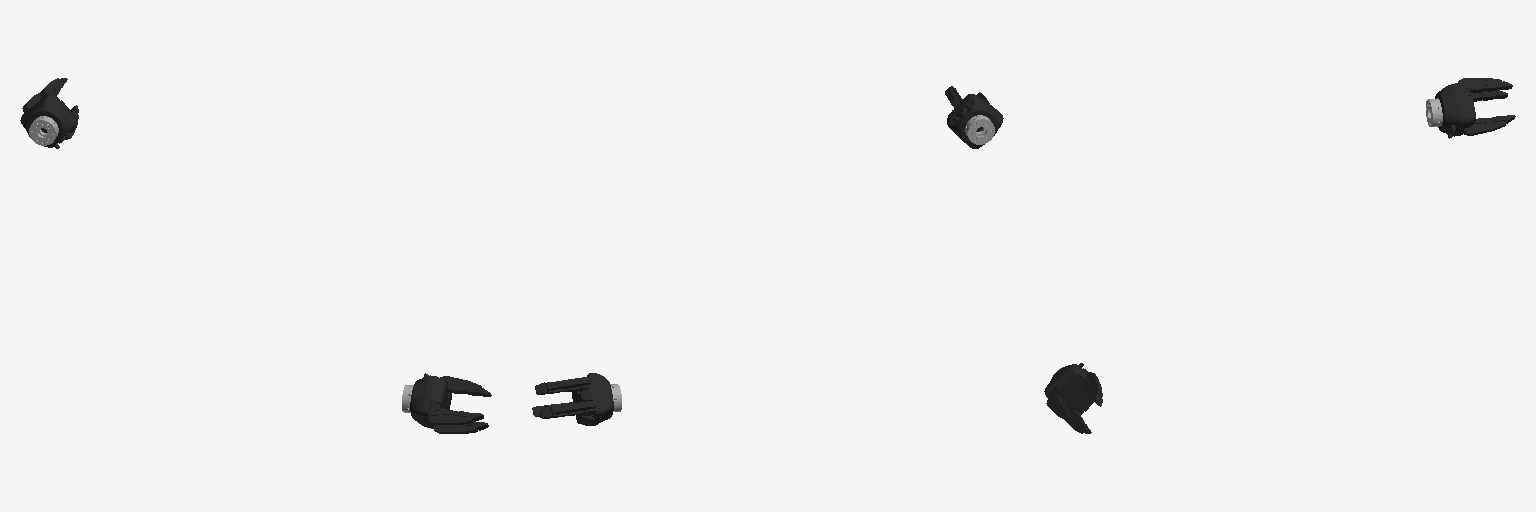
--- Render facts (derived) ---
Views: 3 orthographic renders of the robot side by side, from view 1: azimuth 30°, elevation 25°; view 2: azimuth 150°, elevation 25°; view 3: azimuth 330°, elevation 25°.
Model wiktor with 52 links and 51 joints (36 revolute, 15 fixed), rooted at wiktor_root, posed every joint at zero.
Links seen in each view (by area): view 1: wiktor_right_gripper_palm, wiktor_left_gripper_palm, wiktor_left_gripper_mounting_bracket; view 2: wiktor_right_gripper_palm, wiktor_left_gripper_palm, wiktor_right_gripper_mounting_bracket; view 3: wiktor_left_gripper_palm, wiktor_right_gripper_palm.
Boxes of the visible links, box(x1,y1,x2,y2) form: wiktor_right_gripper_palm: box(410, 373, 451, 428); wiktor_left_gripper_palm: box(20, 93, 76, 148); wiktor_left_gripper_mounting_bracket: box(29, 116, 58, 145); wiktor_right_gripper_palm: box(947, 94, 1003, 148); wiktor_left_gripper_palm: box(572, 373, 613, 425); wiktor_right_gripper_mounting_bracket: box(965, 115, 994, 144); wiktor_left_gripper_palm: box(1435, 83, 1475, 138); wiktor_right_gripper_palm: box(1044, 363, 1095, 411).
Size in the robot's own frame: 0.2279 by 2.5 by 0.1752 metres.
Meshes: 16 distinct files referenced, 28 mesh visuals loaded (6 binary STL); not drawn: 18 (reference not matched to a file when rendering).

The robot description file, URDF, robot "wiktor":
<?xml version="1.0" ?>
<!-- =================================================================================== -->
<!-- |    This document was autogenerated by xacro from wiktor.urdf.xacro              | -->
<!-- |    EDITING THIS FILE BY HAND IS NOT RECOMMENDED                                 | -->
<!-- =================================================================================== -->
<robot name="wiktor" xmlns:xacro="http://www.ros.org/wiki/xacro">
  <material name="Black">
    <color rgba="0.0 0.0 0.0 1.0"/>
  </material>
  <material name="Blue">
    <color rgba="0.0 0.0 0.8 1.0"/>
  </material>
  <material name="Green">
    <color rgba="0.0 0.8 0.0 1.0"/>
  </material>
  <material name="Grey">
    <color rgba="0.4 0.4 0.4 1.0"/>
  </material>
  <material name="Orange">
    <color rgba="1.0 0.423529411765 0.0392156862745 1.0"/>
  </material>
  <material name="Brown">
    <color rgba="0.870588235294 0.811764705882 0.764705882353 1.0"/>
  </material>
  <material name="Red">
    <color rgba="0.8 0.0 0.0 1.0"/>
  </material>
  <material name="White">
    <color rgba="1.0 1.0 1.0 1.0"/>
  </material>
  <material name="LightGrey">
    <color rgba="0.7 0.7 0.7 1"/>
  </material>
  <material name="DarkGray">
    <color rgba="0.2 0.2 0.2 1"/>
  </material>
  <material name="DarkDarkGray">
    <color rgba="0.1 0.1 0.1 1"/>
  </material>
  <link name="wiktor_root"/>
  <joint name="wiktor_dummy_root_joint" type="fixed">
    <parent link="wiktor_root"/>
    <child link="wiktor_pedestal"/>
    <origin rpy="0 0 0" xyz="0 0 0"/>
    <axis xyz="0 0 1"/>
  </joint>
  <link name="wiktor_pedestal">
    <visual>
      <origin rpy="0 0 0" xyz="0 0 0.9245"/>
      <geometry>
        <mesh filename="package://wiktor_description/meshes/baxter_pedestal/pedestal_visual.stl"/>
      </geometry>
      <material name="DarkGray"/>
    </visual>
    <collision>
      <origin rpy="0 0 0" xyz="0 0 0.9245"/>
      <geometry>
        <mesh filename="package://wiktor_description/meshes/baxter_pedestal/pedestal_collision.stl"/>
      </geometry>
      <material name="DarkGray"/>
    </collision>
    <inertial>
      <origin rpy="0 0 0" xyz="0 0 0"/>
      <mass value="60.86397744"/>
      <inertia ixx="5.0635929" ixy="0.00103417" ixz="0.80199628" iyy="6.08689388" iyz="0.00105311" izz="4.96191932"/>
    </inertial>
  </link>
  <joint name="wiktor_base_plate_mount_joint" type="fixed">
    <parent link="wiktor_pedestal"/>
    <child link="wiktor_base_plate_mount"/>
    <origin rpy="0 0 0" xyz="0 0 0.863"/>
    <axis xyz="0 0 1"/>
  </joint>
  <link name="wiktor_base_plate_mount"/>
  <joint name="wiktor_base_plate_joint" type="fixed">
    <parent link="wiktor_base_plate_mount"/>
    <child link="wiktor_base_plate"/>
    <origin rpy="0 0 0" xyz="0 0 0"/>
    <axis xyz="0 0 1"/>
  </joint>
  <link name="wiktor_base_plate">
    <visual>
      <origin rpy="0 0 0" xyz="0 0 0"/>
      <geometry>
        <mesh filename="package://wiktor_description/meshes/torso/torso_visual.stl"/>
      </geometry>
      <material name="LightGrey"/>
    </visual>
    <collision>
      <origin rpy="0 0 0" xyz="0 0 0.2"/>
      <geometry>
        <!--<mesh filename="package://wiktor_description/meshes/torso_visual_model.stl"/>-->
        <cylinder length="0.7" radius="0.2"/>
      </geometry>
      <material name="LightGrey"/>
    </collision>
  </link>
  <joint name="wiktor_left_arm_mount_joint" type="fixed">
    <parent link="wiktor_base_plate"/>
    <child link="wiktor_left_arm_mount"/>
    <origin rpy="-1.5707963268 0 -0.785398163397448" xyz="-0.02 0.1384885 0.385"/>
    <axis xyz="0 0 1"/>
  </joint>
  <link name="wiktor_left_arm_mount">
    <collision>
      <origin rpy="0 0 0" xyz="0 0 -0.013"/>
      <geometry>
        <!--<mesh filename="package://wiktor_description/meshes/torso_visual_model.stl"/>-->
        <box size="0.31 0.31 0.032"/>
      </geometry>
      <material name="LightGrey"/>
    </collision>
  </link>
  <joint name="wiktor_right_arm_mount_joint" type="fixed">
    <parent link="wiktor_base_plate"/>
    <child link="wiktor_right_arm_mount"/>
    <origin rpy="1.5707963268 0 0.785398163397448" xyz="-0.02 -0.1384885 0.385"/>
    <axis xyz="0 0 1"/>
  </joint>
  <link name="wiktor_right_arm_mount">
    <collision>
      <origin rpy="0 0 0" xyz="0 0 -0.013"/>
      <geometry>
        <!--<mesh filename="package://wiktor_description/meshes/torso_visual_model.stl"/>-->
        <box size="0.31 0.31 0.032"/>
      </geometry>
      <material name="LightGrey"/>
    </collision>
  </link>
  <!--joint between {parent} and link_0-->
  <joint name="wiktor_left_arm_mount_wiktor_left_arm_joint" type="fixed">
    <origin rpy="0 0 0" xyz="0 0 0"/>
    <parent link="wiktor_left_arm_mount"/>
    <child link="wiktor_left_arm_link_0"/>
  </joint>
  <link name="wiktor_left_arm_link_0">
    <inertial>
      <origin rpy="0 0 0" xyz="-0.1 0 0.07"/>
      <mass value="5"/>
      <inertia ixx="0.05" ixy="0" ixz="0" iyy="0.06" iyz="0" izz="0.03"/>
    </inertial>
    <visual>
      <origin rpy="0 0 0" xyz="0 0 0"/>
      <geometry>
        <mesh filename="package://wiktor_description/meshes/iiwa7/visual/link_0.stl"/>
      </geometry>
      <material name="Grey"/>
    </visual>
    <collision>
      <origin rpy="0 0 0" xyz="0 0 0"/>
      <geometry>
        <mesh filename="package://wiktor_description/meshes/iiwa7/collision/link_0.stl"/>
      </geometry>
      <material name="Grey"/>
    </collision>
    <self_collision_checking>
      <origin rpy="0 0 0" xyz="0 0 0"/>
      <geometry>
        <capsule length="0.25" radius="0.15"/>
      </geometry>
    </self_collision_checking>
  </link>
  <!-- joint between link_0 and link_1 -->
  <joint name="wiktor_left_arm_joint_1" type="revolute">
    <parent link="wiktor_left_arm_link_0"/>
    <child link="wiktor_left_arm_link_1"/>
    <origin rpy="0 0 0" xyz="0 0 0.15"/>
    <axis xyz="0 0 1"/>
    <limit effort="300" lower="-2.96705972839" upper="2.96705972839" velocity="10"/>
    <safety_controller k_position="100" k_velocity="2" soft_lower_limit="-2.93215314335" soft_upper_limit="2.93215314335"/>
    <dynamics damping="0.5"/>
  </joint>
  <link name="wiktor_left_arm_link_1">
    <inertial>
      <origin rpy="0 0 0" xyz="0 -0.03 0.12"/>
      <mass value="3.4525"/>
      <inertia ixx="0.02183" ixy="0" ixz="0" iyy="0.007703" iyz="-0.003887" izz="0.02083"/>
    </inertial>
    <visual>
      <origin rpy="0 0 0" xyz="0 0 0.0075"/>
      <geometry>
        <mesh filename="package://wiktor_description/meshes/iiwa7/visual/link_1.stl"/>
      </geometry>
      <material name="Orange"/>
    </visual>
    <collision>
      <origin rpy="0 0 0" xyz="0 0 0.0075"/>
      <geometry>
        <mesh filename="package://wiktor_description/meshes/iiwa7/collision/link_1.stl"/>
      </geometry>
      <material name="Orange"/>
    </collision>
  </link>
  <joint name="wiktor_left_arm_joint_2" type="revolute">
    <parent link="wiktor_left_arm_link_1"/>
    <child link="wiktor_left_arm_link_2"/>
    <origin rpy="1.57079632679   0 3.14159265359" xyz="0 0 0.19"/>
    <axis xyz="0 0 1"/>
    <limit effort="300" lower="-2.09439510239" upper="2.09439510239" velocity="10"/>
    <safety_controller k_position="100" k_velocity="2" soft_lower_limit="-2.05948851735" soft_upper_limit="2.05948851735"/>
    <dynamics damping="0.5"/>
  </joint>
  <link name="wiktor_left_arm_link_2">
    <inertial>
      <origin rpy="0 0 0" xyz="0.0003 0.059 0.042"/>
      <mass value="3.4821"/>
      <inertia ixx="0.02076" ixy="0" ixz="-0.003626" iyy="0.02179" iyz="0" izz="0.00779"/>
    </inertial>
    <visual>
      <origin rpy="0 0 0" xyz="0 0 0"/>
      <geometry>
        <mesh filename="package://wiktor_description/meshes/iiwa7/visual/link_2.stl"/>
      </geometry>
      <material name="Orange"/>
    </visual>
    <collision>
      <origin rpy="0 0 0" xyz="0 0 0"/>
      <geometry>
        <mesh filename="package://wiktor_description/meshes/iiwa7/collision/link_2.stl"/>
      </geometry>
      <material name="Orange"/>
    </collision>
  </link>
  <joint name="wiktor_left_arm_joint_3" type="revolute">
    <parent link="wiktor_left_arm_link_2"/>
    <child link="wiktor_left_arm_link_3"/>
    <origin rpy="1.57079632679 0 3.14159265359" xyz="0 0.21 0"/>
    <axis xyz="0 0 1"/>
    <limit effort="300" lower="-2.96705972839" upper="2.96705972839" velocity="10"/>
    <safety_controller k_position="100" k_velocity="2" soft_lower_limit="-2.93215314335" soft_upper_limit="2.93215314335"/>
    <dynamics damping="0.5"/>
  </joint>
  <link name="wiktor_left_arm_link_3">
    <inertial>
      <origin rpy="0 0 0" xyz="0 0.03 0.13"/>
      <mass value="4.05623"/>
      <inertia ixx="0.03204" ixy="0" ixz="0" iyy="0.00972" iyz="0.006227" izz="0.03042"/>
    </inertial>
    <visual>
      <origin rpy="0 0 0" xyz="0 0 -0.026"/>
      <geometry>
        <mesh filename="package://wiktor_description/meshes/iiwa7/visual/link_3.stl"/>
      </geometry>
      <material name="Orange"/>
    </visual>
    <collision>
      <origin rpy="0 0 0" xyz="0 0 -0.026"/>
      <geometry>
        <mesh filename="package://wiktor_description/meshes/iiwa7/collision/link_3.stl"/>
      </geometry>
      <material name="Orange"/>
    </collision>
  </link>
  <joint name="wiktor_left_arm_joint_4" type="revolute">
    <parent link="wiktor_left_arm_link_3"/>
    <child link="wiktor_left_arm_link_4"/>
    <origin rpy="1.57079632679 0 0" xyz="0 0 0.19"/>
    <axis xyz="0 0 1"/>
    <limit effort="300" lower="-2.09439510239" upper="2.09439510239" velocity="10"/>
    <safety_controller k_position="100" k_velocity="2" soft_lower_limit="-2.05948851735" soft_upper_limit="2.05948851735"/>
    <dynamics damping="0.5"/>
  </joint>
  <link name="wiktor_left_arm_link_4">
    <inertial>
      <origin rpy="0 0 0" xyz="0 0.067 0.034"/>
      <mass value="3.4822"/>
      <inertia ixx="0.02178" ixy="0" ixz="0" iyy="0.02075" iyz="-0.003625" izz="0.007785"/>
    </inertial>
    <visual>
      <origin rpy="0 0 0" xyz="0 0 0"/>
      <geometry>
        <mesh filename="package://wiktor_description/meshes/iiwa7/visual/link_4.stl"/>
      </geometry>
      <material name="Orange"/>
    </visual>
    <collision>
      <origin rpy="0 0 0" xyz="0 0 0"/>
      <geometry>
        <mesh filename="package://wiktor_description/meshes/iiwa7/collision/link_4.stl"/>
      </geometry>
      <material name="Orange"/>
    </collision>
  </link>
  <joint name="wiktor_left_arm_joint_5" type="revolute">
    <parent link="wiktor_left_arm_link_4"/>
    <child link="wiktor_left_arm_link_5"/>
    <origin rpy="-1.57079632679 3.14159265359 0" xyz="0 0.21 0"/>
    <axis xyz="0 0 1"/>
    <limit effort="300" lower="-2.96705972839" upper="2.96705972839" velocity="10"/>
    <safety_controller k_position="100" k_velocity="2" soft_lower_limit="-2.93215314335" soft_upper_limit="2.93215314335"/>
    <dynamics damping="0.5"/>
  </joint>
  <link name="wiktor_left_arm_link_5">
    <inertial>
      <origin rpy="0 0 0" xyz="0.0001 0.021 0.076"/>
      <mass value="2.1633"/>
      <inertia ixx="0.01287" ixy="0" ixz="0" iyy="0.005708" iyz="-0.003946" izz="0.01112"/>
    </inertial>
    <visual>
      <origin rpy="0 0 0" xyz="0 0 -0.026"/>
      <geometry>
        <mesh filename="package://wiktor_description/meshes/iiwa7/visual/link_5.stl"/>
      </geometry>
      <material name="Orange"/>
    </visual>
    <collision>
      <origin rpy="0 0 0" xyz="0 0 -0.026"/>
      <geometry>
        <mesh filename="package://wiktor_description/meshes/iiwa7/collision/link_5.stl"/>
      </geometry>
      <material name="Orange"/>
    </collision>
  </link>
  <joint name="wiktor_left_arm_joint_6" type="revolute">
    <parent link="wiktor_left_arm_link_5"/>
    <child link="wiktor_left_arm_link_6"/>
    <origin rpy="1.57079632679 0 0" xyz="0 0.06070 0.19"/>
    <axis xyz="0 0 1"/>
    <limit effort="300" lower="-2.09439510239" upper="2.09439510239" velocity="10"/>
    <safety_controller k_position="100" k_velocity="2" soft_lower_limit="-2.05948851735" soft_upper_limit="2.05948851735"/>
    <dynamics damping="0.5"/>
  </joint>
  <link name="wiktor_left_arm_link_6">
    <inertial>
      <origin rpy="0 0 0" xyz="0 0.0006 0.0004"/>
      <mass value="2.3466"/>
      <inertia ixx="0.006509" ixy="0" ixz="0" iyy="0.006259" iyz="0.00031891" izz="0.004527"/>
    </inertial>
    <visual>
      <origin rpy="0 0 0" xyz="0 0 0"/>
      <geometry>
        <mesh filename="package://wiktor_description/meshes/iiwa7/visual/link_6.stl"/>
      </geometry>
      <material name="Orange"/>
    </visual>
    <collision>
      <origin rpy="0 0 0" xyz="0 0 0"/>
      <geometry>
        <mesh filename="package://wiktor_description/meshes/iiwa7/collision/link_6.stl"/>
      </geometry>
      <material name="Orange"/>
    </collision>
  </link>
  <joint name="wiktor_left_arm_joint_7" type="revolute">
    <parent link="wiktor_left_arm_link_6"/>
    <child link="wiktor_left_arm_link_7"/>
    <origin rpy="-1.57079632679 3.14159265359 0" xyz="0 0.081 0.06070"/>
    <axis xyz="0 0 1"/>
    <limit effort="300" lower="-3.05432619099" upper="3.05432619099" velocity="10"/>
    <safety_controller k_position="100" k_velocity="2" soft_lower_limit="-3.01941960595" soft_upper_limit="3.01941960595"/>
    <dynamics damping="0.5"/>
  </joint>
  <link name="wiktor_left_arm_link_7">
    <inertial>
      <origin rpy="0 0 0" xyz="0 0 0.02"/>
      <mass value="3.129"/>
      <inertia ixx="0.01464" ixy="0.0005912" ixz="0" iyy="0.01465" iyz="0" izz="0.002872"/>
    </inertial>
    <visual>
      <origin rpy="0 0 0" xyz="0 0 -0.0005"/>
      <geometry>
        <mesh filename="package://wiktor_description/meshes/iiwa7/visual/link_7_electric.stl"/>
      </geometry>
      <material name="Grey"/>
    </visual>
    <collision>
      <origin rpy="0 0 0" xyz="0 0 -0.0005"/>
      <geometry>
        <mesh filename="package://wiktor_description/meshes/iiwa7/collision/link_7_electric.stl"/>
      </geometry>
      <material name="Grey"/>
    </collision>
  </link>
  <joint name="wiktor_left_arm_joint_ee" type="fixed">
    <parent link="wiktor_left_arm_link_7"/>
    <child link="wiktor_left_arm_link_ee"/>
    <origin rpy="0 0 0" xyz="0 0 0.045"/>
  </joint>
  <link name="wiktor_left_arm_link_ee">
        </link>
  <!--<joint name="${robot_name}_joint_ee_kuka" type="fixed">-->
  <!--<parent link="${robot_name}_link_7"/>-->
  <!--<child link="${robot_name}_link_ee_kuka"/>-->
  <!--<origin xyz="0 0 0.045" rpy="${PI} ${PI} ${PI}"/>-->
  <!--<axis xyz="0 0 1"/>-->
  <!--</joint>-->
  <!--<link name="${robot_name}_link_ee_kuka">-->
  <!--</link>-->
  <!-- Load Gazebo lib and set the robot namespace -->
  <gazebo>
    <plugin filename="libgazebo_ros_control.so" name="gazebo_ros_control">
      <robotNamespace>/wiktor_left_arm</robotNamespace>
    </plugin>
  </gazebo>
  <!-- Link0 -->
  <gazebo reference="iiwa_link_0">
    <material>Gazebo/Grey</material>
    <mu1>0.2</mu1>
    <mu2>0.2</mu2>
  </gazebo>
  <!-- Link1 -->
  <gazebo reference="iiwa_link_1">
    <material>Gazebo/Orange</material>
    <mu1>0.2</mu1>
    <mu2>0.2</mu2>
  </gazebo>
  <!-- Link2 -->
  <gazebo reference="iiwa_link_2">
    <material>Gazebo/Orange</material>
    <mu1>0.2</mu1>
    <mu2>0.2</mu2>
  </gazebo>
  <!-- Link3 -->
  <gazebo reference="iiwa_link_3">
    <material>Gazebo/Orange</material>
    <mu1>0.2</mu1>
    <mu2>0.2</mu2>
  </gazebo>
  <!-- Link4 -->
  <gazebo reference="iiwa_link_4">
    <material>Gazebo/Orange</material>
    <mu1>0.2</mu1>
    <mu2>0.2</mu2>
  </gazebo>
  <!-- Link5 -->
  <gazebo reference="iiwa_link_5">
    <material>Gazebo/Orange</material>
    <mu1>0.2</mu1>
    <mu2>0.2</mu2>
  </gazebo>
  <!-- Link6 -->
  <gazebo reference="iiwa_link_6">
    <material>Gazebo/Orange</material>
    <mu1>0.2</mu1>
    <mu2>0.2</mu2>
  </gazebo>
  <!-- Link7 -->
  <gazebo reference="iiwa_link_7">
    <material>Gazebo/Grey</material>
    <mu1>0.2</mu1>
    <mu2>0.2</mu2>
  </gazebo>
  <transmission name="iiwa_tran_1">
    <robotNamespace>/wiktor_left_arm</robotNamespace>
    <type>transmission_interface/SimpleTransmission</type>
    <joint name="iiwa_joint_1">
      <hardwareInterface>PositionJointInterface</hardwareInterface>
    </joint>
    <actuator name="iiwa_motor_1">
      <hardwareInterface>PositionJointInterface</hardwareInterface>
      <mechanicalReduction>1</mechanicalReduction>
    </actuator>
  </transmission>
  <transmission name="iiwa_tran_2">
    <robotNamespace>/wiktor_left_arm</robotNamespace>
    <type>transmission_interface/SimpleTransmission</type>
    <joint name="iiwa_joint_2">
      <hardwareInterface>PositionJointInterface</hardwareInterface>
    </joint>
    <actuator name="iiwa_motor_2">
      <hardwareInterface>PositionJointInterface</hardwareInterface>
      <mechanicalReduction>1</mechanicalReduction>
    </actuator>
  </transmission>
  <transmission name="iiwa_tran_3">
    <robotNamespace>/wiktor_left_arm</robotNamespace>
    <type>transmission_interface/SimpleTransmission</type>
    <joint name="iiwa_joint_3">
      <hardwareInterface>PositionJointInterface</hardwareInterface>
    </joint>
    <actuator name="iiwa_motor_3">
      <hardwareInterface>PositionJointInterface</hardwareInterface>
      <mechanicalReduction>1</mechanicalReduction>
    </actuator>
  </transmission>
  <transmission name="iiwa_tran_4">
    <robotNamespace>/wiktor_left_arm</robotNamespace>
    <type>transmission_interface/SimpleTransmission</type>
    <joint name="iiwa_joint_4">
      <hardwareInterface>PositionJointInterface</hardwareInterface>
    </joint>
    <actuator name="iiwa_motor_4">
      <hardwareInterface>PositionJointInterface</hardwareInterface>
      <mechanicalReduction>1</mechanicalReduction>
    </actuator>
  </transmission>
  <transmission name="iiwa_tran_5">
    <robotNamespace>/wiktor_left_arm</robotNamespace>
    <type>transmission_interface/SimpleTransmission</type>
    <joint name="iiwa_joint_5">
      <hardwareInterface>PositionJointInterface</hardwareInterface>
    </joint>
    <actuator name="iiwa_motor_5">
      <hardwareInterface>PositionJointInterface</hardwareInterface>
      <mechanicalReduction>1</mechanicalReduction>
    </actuator>
  </transmission>
  <transmission name="iiwa_tran_6">
    <robotNamespace>/wiktor_left_arm</robotNamespace>
    <type>transmission_interface/SimpleTransmission</type>
    <joint name="iiwa_joint_6">
      <hardwareInterface>PositionJointInterface</hardwareInterface>
    </joint>
    <actuator name="iiwa_motor_6">
      <hardwareInterface>PositionJointInterface</hardwareInterface>
      <mechanicalReduction>1</mechanicalReduction>
    </actuator>
  </transmission>
  <transmission name="iiwa_tran_7">
    <robotNamespace>/wiktor_left_arm</robotNamespace>
    <type>transmission_interface/SimpleTransmission</type>
    <joint name="iiwa_joint_7">
      <hardwareInterface>PositionJointInterface</hardwareInterface>
    </joint>
    <actuator name="iiwa_motor_7">
      <hardwareInterface>PositionJointInterface</hardwareInterface>
      <mechanicalReduction>1</mechanicalReduction>
    </actuator>
  </transmission>
  <!--joint between {parent} and link_0-->
  <joint name="wiktor_right_arm_mount_wiktor_right_arm_joint" type="fixed">
    <origin rpy="0 0 0" xyz="0 0 0"/>
    <parent link="wiktor_right_arm_mount"/>
    <child link="wiktor_right_arm_link_0"/>
  </joint>
  <link name="wiktor_right_arm_link_0">
    <inertial>
      <origin rpy="0 0 0" xyz="-0.1 0 0.07"/>
      <mass value="5"/>
      <inertia ixx="0.05" ixy="0" ixz="0" iyy="0.06" iyz="0" izz="0.03"/>
    </inertial>
    <visual>
      <origin rpy="0 0 0" xyz="0 0 0"/>
      <geometry>
        <mesh filename="package://wiktor_description/meshes/iiwa7/visual/link_0.stl"/>
      </geometry>
      <material name="Grey"/>
    </visual>
    <collision>
      <origin rpy="0 0 0" xyz="0 0 0"/>
      <geometry>
        <mesh filename="package://wiktor_description/meshes/iiwa7/collision/link_0.stl"/>
      </geometry>
      <material name="Grey"/>
    </collision>
    <self_collision_checking>
      <origin rpy="0 0 0" xyz="0 0 0"/>
      <geometry>
        <capsule length="0.25" radius="0.15"/>
      </geometry>
    </self_collision_checking>
  </link>
  <!-- joint between link_0 and link_1 -->
  <joint name="wiktor_right_arm_joint_1" type="revolute">
    <parent link="wiktor_right_arm_link_0"/>
    <child link="wiktor_right_arm_link_1"/>
    <origin rpy="0 0 0" xyz="0 0 0.15"/>
    <axis xyz="0 0 1"/>
    <limit effort="300" lower="-2.96705972839" upper="2.96705972839" velocity="10"/>
    <safety_controller k_position="100" k_velocity="2" soft_lower_limit="-2.93215314335" soft_upper_limit="2.93215314335"/>
    <dynamics damping="0.5"/>
  </joint>
  <link name="wiktor_right_arm_link_1">
    <inertial>
      <origin rpy="0 0 0" xyz="0 -0.03 0.12"/>
      <mass value="3.4525"/>
      <inertia ixx="0.02183" ixy="0" ixz="0" iyy="0.007703" iyz="-0.003887" izz="0.02083"/>
    </inertial>
    <visual>
      <origin rpy="0 0 0" xyz="0 0 0.0075"/>
      <geometry>
        <mesh filename="package://wiktor_description/meshes/iiwa7/visual/link_1.stl"/>
      </geometry>
      <material name="Orange"/>
    </visual>
    <collision>
      <origin rpy="0 0 0" xyz="0 0 0.0075"/>
      <geometry>
        <mesh filename="package://wiktor_description/meshes/iiwa7/collision/link_1.stl"/>
      </geometry>
      <material name="Orange"/>
    </collision>
  </link>
  <joint name="wiktor_right_arm_joint_2" type="revolute">
    <parent link="wiktor_right_arm_link_1"/>
    <child link="wiktor_right_arm_link_2"/>
    <origin rpy="1.57079632679   0 3.14159265359" xyz="0 0 0.19"/>
    <axis xyz="0 0 1"/>
    <limit effort="300" lower="-2.09439510239" upper="2.09439510239" velocity="10"/>
    <safety_controller k_position="100" k_velocity="2" soft_lower_limit="-2.05948851735" soft_upper_limit="2.05948851735"/>
    <dynamics damping="0.5"/>
  </joint>
  <link name="wiktor_right_arm_link_2">
    <inertial>
      <origin rpy="0 0 0" xyz="0.0003 0.059 0.042"/>
      <mass value="3.4821"/>
      <inertia ixx="0.02076" ixy="0" ixz="-0.003626" iyy="0.02179" iyz="0" izz="0.00779"/>
    </inertial>
    <visual>
      <origin rpy="0 0 0" xyz="0 0 0"/>
      <geometry>
        <mesh filename="package://wiktor_description/meshes/iiwa7/visual/link_2.stl"/>
      </geometry>
      <material name="Orange"/>
    </visual>
    <collision>
      <origin rpy="0 0 0" xyz="0 0 0"/>
      <geometry>
        <mesh filename="package://wiktor_description/meshes/iiwa7/collision/link_2.stl"/>
      </geometry>
      <material name="Orange"/>
    </collision>
  </link>
  <joint name="wiktor_right_arm_joint_3" type="revolute">
    <parent link="wiktor_right_arm_link_2"/>
    <child link="wiktor_right_arm_link_3"/>
    <origin rpy="1.57079632679 0 3.14159265359" xyz="0 0.21 0"/>
    <axis xyz="0 0 1"/>
    <limit effort="300" lower="-2.96705972839" upper="2.96705972839" velocity="10"/>
    <safety_controller k_position="100" k_velocity="2" soft_lower_limit="-2.93215314335" soft_upper_limit="2.93215314335"/>
    <dynamics damping="0.5"/>
  </joint>
  <link name="wiktor_right_arm_link_3">
    <inertial>
      <origin rpy="0 0 0" xyz="0 0.03 0.13"/>
      <mass value="4.05623"/>
      <inertia ixx="0.03204" ixy="0" ixz="0" iyy="0.00972" iyz="0.006227" izz="0.03042"/>
    </inertial>
    <visual>
      <origin rpy="0 0 0" xyz="0 0 -0.026"/>
      <geometry>
        <mesh filename="package://wiktor_description/meshes/iiwa7/visual/link_3.stl"/>
      </geometry>
      <material name="Orange"/>
    </visual>
    <collision>
      <origin rpy="0 0 0" xyz="0 0 -0.026"/>
      <geometry>
        <mesh filename="package://wiktor_description/meshes/iiwa7/collision/link_3.stl"/>
      </geometry>
      <material name="Orange"/>
    </collision>
  </link>
  <joint name="wiktor_right_arm_joint_4" type="revolute">
    <parent link="wiktor_right_arm_link_3"/>
    <child link="wiktor_right_arm_link_4"/>
    <origin rpy="1.57079632679 0 0" xyz="0 0 0.19"/>
    <axis xyz="0 0 1"/>
    <limit effort="300" lower="-2.09439510239" upper="2.09439510239" velocity="10"/>
    <safety_controller k_position="100" k_velocity="2" soft_lower_limit="-2.05948851735" soft_upper_limit="2.05948851735"/>
    <dynamics damping="0.5"/>
  </joint>
  <link name="wiktor_right_arm_link_4">
    <inertial>
      <origin rpy="0 0 0" xyz="0 0.067 0.034"/>
      <mass value="3.4822"/>
      <inertia ixx="0.02178" ixy="0" ixz="0" iyy="0.02075" iyz="-0.003625" izz="0.007785"/>
    </inertial>
    <visual>
      <origin rpy="0 0 0" xyz="0 0 0"/>
      <geometry>
        <mesh filename="package://wiktor_description/meshes/iiwa7/visual/link_4.stl"/>
      </geometry>
      <material name="Orange"/>
    </visual>
    <collision>
      <origin rpy="0 0 0" xyz="0 0 0"/>
      <geometry>
        <mesh filename="package://wiktor_description/meshes/iiwa7/collision/link_4.stl"/>
      </geometry>
      <material name="Orange"/>
    </collision>
  </link>
  <joint name="wiktor_right_arm_joint_5" type="revolute">
    <parent link="wiktor_right_arm_link_4"/>
    <child link="wiktor_right_arm_link_5"/>
    <origin rpy="-1.57079632679 3.14159265359 0" xyz="0 0.21 0"/>
    <axis xyz="0 0 1"/>
    <limit effort="300" lower="-2.96705972839" upper="2.96705972839" velocity="10"/>
    <safety_controller k_position="100" k_velocity="2" soft_lower_limit="-2.93215314335" soft_upper_limit="2.93215314335"/>
    <dynamics damping="0.5"/>
  </joint>
  <link name="wiktor_right_arm_link_5">
    <inertial>
      <origin rpy="0 0 0" xyz="0.0001 0.021 0.076"/>
      <mass value="2.1633"/>
      <inertia ixx="0.01287" ixy="0" ixz="0" iyy="0.005708" iyz="-0.003946" izz="0.01112"/>
    </inertial>
    <visual>
      <origin rpy="0 0 0" xyz="0 0 -0.026"/>
      <geometry>
        <mesh filename="package://wiktor_description/meshes/iiwa7/visual/link_5.stl"/>
      </geometry>
      <material name="Orange"/>
    </visual>
    <collision>
      <origin rpy="0 0 0" xyz="0 0 -0.026"/>
      <geometry>
        <mesh filename="package://wiktor_description/meshes/iiwa7/collision/link_5.stl"/>
      </geometry>
      <material name="Orange"/>
    </collision>
  </link>
  <joint name="wiktor_right_arm_joint_6" type="revolute">
    <parent link="wiktor_right_arm_link_5"/>
    <child link="wiktor_right_arm_link_6"/>
    <origin rpy="1.57079632679 0 0" xyz="0 0.06070 0.19"/>
    <axis xyz="0 0 1"/>
    <limit effort="300" lower="-2.09439510239" upper="2.09439510239" velocity="10"/>
    <safety_controller k_position="100" k_velocity="2" soft_lower_limit="-2.05948851735" soft_upper_limit="2.05948851735"/>
    <dynamics damping="0.5"/>
  </joint>
  <link name="wiktor_right_arm_link_6">
    <inertial>
      <origin rpy="0 0 0" xyz="0 0.0006 0.0004"/>
      <mass value="2.3466"/>
      <inertia ixx="0.006509" ixy="0" ixz="0" iyy="0.006259" iyz="0.00031891" izz="0.004527"/>
    </inertial>
    <visual>
      <origin rpy="0 0 0" xyz="0 0 0"/>
      <geometry>
        <mesh filename="package://wiktor_description/meshes/iiwa7/visual/link_6.stl"/>
      </geometry>
      <material name="Orange"/>
    </visual>
    <collision>
      <origin rpy="0 0 0" xyz="0 0 0"/>
      <geometry>
        <mesh filename="package://wiktor_description/meshes/iiwa7/collision/link_6.stl"/>
      </geometry>
      <material name="Orange"/>
    </collision>
  </link>
  <joint name="wiktor_right_arm_joint_7" type="revolute">
    <parent link="wiktor_right_arm_link_6"/>
    <child link="wiktor_right_arm_link_7"/>
    <origin rpy="-1.57079632679 3.14159265359 0" xyz="0 0.081 0.06070"/>
    <axis xyz="0 0 1"/>
    <limit effort="300" lower="-3.05432619099" upper="3.05432619099" velocity="10"/>
    <safety_controller k_position="100" k_velocity="2" soft_lower_limit="-3.01941960595" soft_upper_limit="3.01941960595"/>
    <dynamics damping="0.5"/>
  </joint>
  <link name="wiktor_right_arm_link_7">
    <inertial>
      <origin rpy="0 0 0" xyz="0 0 0.02"/>
      <mass value="3.129"/>
      <inertia ixx="0.01464" ixy="0.0005912" ixz="0" iyy="0.01465" iyz="0" izz="0.002872"/>
    </inertial>
    <visual>
      <origin rpy="0 0 0" xyz="0 0 -0.0005"/>
      <geometry>
        <mesh filename="package://wiktor_description/meshes/iiwa7/visual/link_7_electric.stl"/>
      </geometry>
      <material name="Grey"/>
    </visual>
    <collision>
      <origin rpy="0 0 0" xyz="0 0 -0.0005"/>
      <geometry>
        <mesh filename="package://wiktor_description/meshes/iiwa7/collision/link_7_electric.stl"/>
      </geometry>
      <material name="Grey"/>
    </collision>
  </link>
  <joint name="wiktor_right_arm_joint_ee" type="fixed">
    <parent link="wiktor_right_arm_link_7"/>
    <child link="wiktor_right_arm_link_ee"/>
    <origin rpy="0 0 0" xyz="0 0 0.045"/>
  </joint>
  <link name="wiktor_right_arm_link_ee">
        </link>
  <!--<joint name="${robot_name}_joint_ee_kuka" type="fixed">-->
  <!--<parent link="${robot_name}_link_7"/>-->
  <!--<child link="${robot_name}_link_ee_kuka"/>-->
  <!--<origin xyz="0 0 0.045" rpy="${PI} ${PI} ${PI}"/>-->
  <!--<axis xyz="0 0 1"/>-->
  <!--</joint>-->
  <!--<link name="${robot_name}_link_ee_kuka">-->
  <!--</link>-->
  <!-- Load Gazebo lib and set the robot namespace -->
  <gazebo>
    <plugin filename="libgazebo_ros_control.so" name="gazebo_ros_control">
      <robotNamespace>/wiktor_right_arm</robotNamespace>
    </plugin>
  </gazebo>
  <!-- Link0 -->
  <gazebo reference="iiwa_link_0">
    <material>Gazebo/Grey</material>
    <mu1>0.2</mu1>
    <mu2>0.2</mu2>
  </gazebo>
  <!-- Link1 -->
  <gazebo reference="iiwa_link_1">
    <material>Gazebo/Orange</material>
    <mu1>0.2</mu1>
    <mu2>0.2</mu2>
  </gazebo>
  <!-- Link2 -->
  <gazebo reference="iiwa_link_2">
    <material>Gazebo/Orange</material>
    <mu1>0.2</mu1>
    <mu2>0.2</mu2>
  </gazebo>
  <!-- Link3 -->
  <gazebo reference="iiwa_link_3">
    <material>Gazebo/Orange</material>
    <mu1>0.2</mu1>
    <mu2>0.2</mu2>
  </gazebo>
  <!-- Link4 -->
  <gazebo reference="iiwa_link_4">
    <material>Gazebo/Orange</material>
    <mu1>0.2</mu1>
    <mu2>0.2</mu2>
  </gazebo>
  <!-- Link5 -->
  <gazebo reference="iiwa_link_5">
    <material>Gazebo/Orange</material>
    <mu1>0.2</mu1>
    <mu2>0.2</mu2>
  </gazebo>
  <!-- Link6 -->
  <gazebo reference="iiwa_link_6">
    <material>Gazebo/Orange</material>
    <mu1>0.2</mu1>
    <mu2>0.2</mu2>
  </gazebo>
  <!-- Link7 -->
  <gazebo reference="iiwa_link_7">
    <material>Gazebo/Grey</material>
    <mu1>0.2</mu1>
    <mu2>0.2</mu2>
  </gazebo>
  <transmission name="iiwa_tran_1">
    <robotNamespace>/wiktor_right_arm</robotNamespace>
    <type>transmission_interface/SimpleTransmission</type>
    <joint name="iiwa_joint_1">
      <hardwareInterface>PositionJointInterface</hardwareInterface>
    </joint>
    <actuator name="iiwa_motor_1">
      <hardwareInterface>PositionJointInterface</hardwareInterface>
      <mechanicalReduction>1</mechanicalReduction>
    </actuator>
  </transmission>
  <transmission name="iiwa_tran_2">
    <robotNamespace>/wiktor_right_arm</robotNamespace>
    <type>transmission_interface/SimpleTransmission</type>
    <joint name="iiwa_joint_2">
      <hardwareInterface>PositionJointInterface</hardwareInterface>
    </joint>
    <actuator name="iiwa_motor_2">
      <hardwareInterface>PositionJointInterface</hardwareInterface>
      <mechanicalReduction>1</mechanicalReduction>
    </actuator>
  </transmission>
  <transmission name="iiwa_tran_3">
    <robotNamespace>/wiktor_right_arm</robotNamespace>
    <type>transmission_interface/SimpleTransmission</type>
    <joint name="iiwa_joint_3">
      <hardwareInterface>PositionJointInterface</hardwareInterface>
    </joint>
    <actuator name="iiwa_motor_3">
      <hardwareInterface>PositionJointInterface</hardwareInterface>
      <mechanicalReduction>1</mechanicalReduction>
    </actuator>
  </transmission>
  <transmission name="iiwa_tran_4">
    <robotNamespace>/wiktor_right_arm</robotNamespace>
    <type>transmission_interface/SimpleTransmission</type>
    <joint name="iiwa_joint_4">
      <hardwareInterface>PositionJointInterface</hardwareInterface>
    </joint>
    <actuator name="iiwa_motor_4">
      <hardwareInterface>PositionJointInterface</hardwareInterface>
      <mechanicalReduction>1</mechanicalReduction>
    </actuator>
  </transmission>
  <transmission name="iiwa_tran_5">
    <robotNamespace>/wiktor_right_arm</robotNamespace>
    <type>transmission_interface/SimpleTransmission</type>
    <joint name="iiwa_joint_5">
      <hardwareInterface>PositionJointInterface</hardwareInterface>
    </joint>
    <actuator name="iiwa_motor_5">
      <hardwareInterface>PositionJointInterface</hardwareInterface>
      <mechanicalReduction>1</mechanicalReduction>
    </actuator>
  </transmission>
  <transmission name="iiwa_tran_6">
    <robotNamespace>/wiktor_right_arm</robotNamespace>
    <type>transmission_interface/SimpleTransmission</type>
    <joint name="iiwa_joint_6">
      <hardwareInterface>PositionJointInterface</hardwareInterface>
    </joint>
    <actuator name="iiwa_motor_6">
      <hardwareInterface>PositionJointInterface</hardwareInterface>
      <mechanicalReduction>1</mechanicalReduction>
    </actuator>
  </transmission>
  <transmission name="iiwa_tran_7">
    <robotNamespace>/wiktor_right_arm</robotNamespace>
    <type>transmission_interface/SimpleTransmission</type>
    <joint name="iiwa_joint_7">
      <hardwareInterface>PositionJointInterface</hardwareInterface>
    </joint>
    <actuator name="iiwa_motor_7">
      <hardwareInterface>PositionJointInterface</hardwareInterface>
      <mechanicalReduction>1</mechanicalReduction>
    </actuator>
  </transmission>
  <!--joint between {parent} and link_0-->
  <joint name="wiktor_left_arm_link_ee_wiktor_left_joint" type="fixed">
    <origin rpy="0 0 0" xyz="0 0 0"/>
    <parent link="wiktor_left_arm_link_ee"/>
    <child link="wiktor_left_gripper_mounting_bracket"/>
  </joint>
  <link name="wiktor_left_gripper_mounting_bracket">
    <visual>
      <origin rpy="0 0 0" xyz="0 0 0"/>
      <geometry>
        <mesh filename="package://wiktor_description/meshes/robotiq_3finger/kuka_to_palm_connectors_visual.stl"/>
      </geometry>
      <material name="LightGrey"/>
    </visual>
    <collision>
      <origin rpy="0 0 0" xyz="0 0 0"/>
      <geometry>
        <mesh filename="package://wiktor_description/meshes/robotiq_3finger/kuka_to_palm_connectors_collision.stl"/>
      </geometry>
      <material name="LightGrey"/>
    </collision>
  </link>
  <!--<link name="${prefix}_iiwa_bracket">-->
  <!--<visual>-->
  <!--<origin xyz="0 0 0" rpy="0 0 0"/>-->
  <!--<geometry>-->
  <!--<mesh filename="package://wiktor_description/meshes/robotiq_3finger/iiwa7_to_neutral_coupling_plate_visual.stl"/>-->
  <!--</geometry>-->
  <!--<material name="LightGrey"/>-->
  <!--</visual>-->
  <!--<collision>-->
  <!--<origin xyz="0 0 0" rpy="0 0 0"/>-->
  <!--<geometry>-->
  <!--<mesh filename="package://wiktor_description/meshes/robotiq_3finger/iiwa7_to_neutral_coupling_plate_collision.stl"/>-->
  <!--</geometry>-->
  <!--<material name="LightGrey"/>-->
  <!--</collision>-->
  <!--</link>-->
  <!--<joint name="${prefix}_iiwa_to_robotiq_joint" type="fixed">-->
  <!--<origin xyz="0 0 0.008" rpy="0 0 0"/>-->
  <!--<parent link="${prefix}_iiwa_bracket"/>-->
  <!--<child link="${prefix}_robotiq_bracket"/>-->
  <!--</joint>-->
  <!--<link name="${prefix}_robotiq_bracket">-->
  <!--<visual>-->
  <!--<origin xyz="0 0 0" rpy="0 0 0"/>-->
  <!--<geometry>-->
  <!--<mesh filename="package://wiktor_description/meshes/robotiq_3finger/neutral_coupling_plate_to_robotiq_visual.stl"/>-->
  <!--</geometry>-->
  <!--<material name="DarkGrey"/>-->
  <!--</visual>-->
  <!--<collision>-->
  <!--<origin xyz="0 0 0" rpy="0 0 0"/>-->
  <!--<geometry>-->
  <!--<mesh filename="package://wiktor_description/meshes/robotiq_3finger/neutral_coupling_plate_to_robotiq_collision.stl"/>-->
  <!--</geometry>-->
  <!--<material name="DarkGrey"/>-->
  <!--</collision>-->
  <!--</link>-->
  <!--<joint name="${prefix}_robotiq_gripper_mounting_bracket_joint" type="fixed">-->
  <!--<origin xyz="0 0 0.1" rpy="0 0 0"/>-->
  <!--<parent link="${prefix}_robotiq_bracket"/>-->
  <!--<child link="${prefix}_gripper_mounting_bracket"/>-->
  <!--</joint>-->
  <!--<link name="${prefix}_gripper_mounting_bracket">-->
  <!--<inertial>-->
  <!--<origin xyz="0 0 0" rpy="0 0 0"/>-->
  <!--<mass value="1"/>-->
  <!--<inertia ixx="0.01" ixy="0" ixz="0" iyy="0.01" iyz="0" izz="0.01"/>-->
  <!--</inertial>-->
  <!--<visual>-->
  <!--<origin xyz="0 0 0" rpy="0 0 0"/>-->
  <!--<geometry>-->
  <!--<mesh filename="package://wiktor_description/meshes/robotiq_3finger/gripper_mounting_bracket_visual.stl"/>-->
  <!--</geometry>-->
  <!--<material name="DarkGray"/>-->
  <!--</visual>-->
  <!--<collision>-->
  <!--<origin xyz="0 0 0" rpy="0 0 0"/>-->
  <!--<geometry>-->
  <!--<mesh filename="package://wiktor_description/meshes/robotiq_3finger/gripper_mounting_bracket_collision.stl"/>-->
  <!--</geometry>-->
  <!--<material name="DarkGray"/>-->
  <!--</collision>-->
  <!--</link>-->
  <!--joint between {parent} and link_0-->
  <joint name="wiktor_right_arm_link_ee_wiktor_right_joint" type="fixed">
    <origin rpy="0 0 0" xyz="0 0 0"/>
    <parent link="wiktor_right_arm_link_ee"/>
    <child link="wiktor_right_gripper_mounting_bracket"/>
  </joint>
  <link name="wiktor_right_gripper_mounting_bracket">
    <visual>
      <origin rpy="0 0 0" xyz="0 0 0"/>
      <geometry>
        <mesh filename="package://wiktor_description/meshes/robotiq_3finger/kuka_to_palm_connectors_visual.stl"/>
      </geometry>
      <material name="LightGrey"/>
    </visual>
    <collision>
      <origin rpy="0 0 0" xyz="0 0 0"/>
      <geometry>
        <mesh filename="package://wiktor_description/meshes/robotiq_3finger/kuka_to_palm_connectors_collision.stl"/>
      </geometry>
      <material name="LightGrey"/>
    </collision>
  </link>
  <!--<link name="${prefix}_iiwa_bracket">-->
  <!--<visual>-->
  <!--<origin xyz="0 0 0" rpy="0 0 0"/>-->
  <!--<geometry>-->
  <!--<mesh filename="package://wiktor_description/meshes/robotiq_3finger/iiwa7_to_neutral_coupling_plate_visual.stl"/>-->
  <!--</geometry>-->
  <!--<material name="LightGrey"/>-->
  <!--</visual>-->
  <!--<collision>-->
  <!--<origin xyz="0 0 0" rpy="0 0 0"/>-->
  <!--<geometry>-->
  <!--<mesh filename="package://wiktor_description/meshes/robotiq_3finger/iiwa7_to_neutral_coupling_plate_collision.stl"/>-->
  <!--</geometry>-->
  <!--<material name="LightGrey"/>-->
  <!--</collision>-->
  <!--</link>-->
  <!--<joint name="${prefix}_iiwa_to_robotiq_joint" type="fixed">-->
  <!--<origin xyz="0 0 0.008" rpy="0 0 0"/>-->
  <!--<parent link="${prefix}_iiwa_bracket"/>-->
  <!--<child link="${prefix}_robotiq_bracket"/>-->
  <!--</joint>-->
  <!--<link name="${prefix}_robotiq_bracket">-->
  <!--<visual>-->
  <!--<origin xyz="0 0 0" rpy="0 0 0"/>-->
  <!--<geometry>-->
  <!--<mesh filename="package://wiktor_description/meshes/robotiq_3finger/neutral_coupling_plate_to_robotiq_visual.stl"/>-->
  <!--</geometry>-->
  <!--<material name="DarkGrey"/>-->
  <!--</visual>-->
  <!--<collision>-->
  <!--<origin xyz="0 0 0" rpy="0 0 0"/>-->
  <!--<geometry>-->
  <!--<mesh filename="package://wiktor_description/meshes/robotiq_3finger/neutral_coupling_plate_to_robotiq_collision.stl"/>-->
  <!--</geometry>-->
  <!--<material name="DarkGrey"/>-->
  <!--</collision>-->
  <!--</link>-->
  <!--<joint name="${prefix}_robotiq_gripper_mounting_bracket_joint" type="fixed">-->
  <!--<origin xyz="0 0 0.1" rpy="0 0 0"/>-->
  <!--<parent link="${prefix}_robotiq_bracket"/>-->
  <!--<child link="${prefix}_gripper_mounting_bracket"/>-->
  <!--</joint>-->
  <!--<link name="${prefix}_gripper_mounting_bracket">-->
  <!--<inertial>-->
  <!--<origin xyz="0 0 0" rpy="0 0 0"/>-->
  <!--<mass value="1"/>-->
  <!--<inertia ixx="0.01" ixy="0" ixz="0" iyy="0.01" iyz="0" izz="0.01"/>-->
  <!--</inertial>-->
  <!--<visual>-->
  <!--<origin xyz="0 0 0" rpy="0 0 0"/>-->
  <!--<geometry>-->
  <!--<mesh filename="package://wiktor_description/meshes/robotiq_3finger/gripper_mounting_bracket_visual.stl"/>-->
  <!--</geometry>-->
  <!--<material name="DarkGray"/>-->
  <!--</visual>-->
  <!--<collision>-->
  <!--<origin xyz="0 0 0" rpy="0 0 0"/>-->
  <!--<geometry>-->
  <!--<mesh filename="package://wiktor_description/meshes/robotiq_3finger/gripper_mounting_bracket_collision.stl"/>-->
  <!--</geometry>-->
  <!--<material name="DarkGray"/>-->
  <!--</collision>-->
  <!--</link>-->
  <joint name="wiktor_left_gripper_palm_joint" type="fixed">
    <origin rpy="0 0 0.785398163397" xyz="0 0 0.02705"/>
    <parent link="wiktor_left_gripper_mounting_bracket"/>
    <child link="wiktor_left_gripper_palm"/>
  </joint>
  <link name="wiktor_left_gripper_palm">
    <inertial>
      <origin rpy="0 0 0" xyz="0 0 0"/>
      <mass value="1"/>
      <inertia ixx="0.01" ixy="0" ixz="0" iyy="0.01" iyz="0" izz="0.01"/>
    </inertial>
    <visual>
      <origin rpy="0 0 0" xyz="0 0 0"/>
      <geometry>
        <mesh filename="package://wiktor_description/meshes/robotiq_3finger/palm_visual.stl"/>
      </geometry>
      <material name="DarkGray"/>
    </visual>
    <collision>
      <origin rpy="0 0 0" xyz="0 0 0"/>
      <geometry>
        <mesh filename="package://wiktor_description/meshes/robotiq_3finger/palm_collision.stl"/>
      </geometry>
      <material name="DarkGray"/>
    </collision>
  </link>
  <!-- Finger A -->
  <joint name="wiktor_left_gripper_fingerA_knuckle" type="fixed">
    <origin rpy="0 0 0" xyz="0.02225040 0 0.06111875"/>
    <parent link="wiktor_left_gripper_palm"/>
    <child link="wiktor_left_gripper_fingerA_base"/>
  </joint>
  <link name="wiktor_left_gripper_fingerA_base">
    <inertial>
      <origin rpy="0 0 0" xyz="0 0 0"/>
      <mass value="1"/>
      <inertia ixx="0.01" ixy="0" ixz="0" iyy="0.01" iyz="0" izz="0.01"/>
    </inertial>
    <visual>
      <origin rpy="0 0 0" xyz="0 0 0"/>
      <geometry>
        <mesh filename="package://wiktor_description/meshes/robotiq_3finger/finger_link1_base_visual.stl"/>
      </geometry>
      <material name="DarkGray"/>
    </visual>
    <collision>
      <origin rpy="0 0 0" xyz="0 0 0"/>
      <geometry>
        <mesh filename="package://wiktor_description/meshes/robotiq_3finger/finger_link1_base_visual.stl"/>
      </geometry>
      <material name="DarkGray"/>
    </collision>
  </link>
  <!-- Joint 2 (base-prox) -->
  <joint name="wiktor_left_gripper_fingerA_joint_2" type="revolute">
    <parent link="wiktor_left_gripper_fingerA_base"/>
    <child link="wiktor_left_gripper_fingerA_prox"/>
    <origin rpy="0 0 0" xyz="0.02225000 0 0.02151380"/>
    <axis xyz="0 -1 0"/>
    <limit effort="300" lower="-1" upper="1" velocity="10"/>
    <safety_controller k_position="100" k_velocity="2" soft_lower_limit="-2.93215314335" soft_upper_limit="2.93215314335"/>
    <dynamics damping="0.5"/>
  </joint>
  <link name="wiktor_left_gripper_fingerA_prox">
    <inertial>
      <origin rpy="0 0 0" xyz="0 0 0"/>
      <mass value="1"/>
      <inertia ixx="0.01" ixy="0" ixz="0" iyy="0.01" iyz="0" izz="0.01"/>
    </inertial>
    <visual>
      <origin rpy="0 0 0" xyz="0 0 0"/>
      <geometry>
        <mesh filename="package://wiktor_description/meshes/robotiq_3finger/finger_link2_prox_visual.stl"/>
      </geometry>
      <material name="DarkGray"/>
    </visual>
    <collision>
      <origin rpy="0 0 0" xyz="0 0 0"/>
      <geometry>
        <mesh filename="package://wiktor_description/meshes/robotiq_3finger/finger_link2_prox_collision.stl"/>
      </geometry>
      <material name="DarkGray"/>
    </collision>
  </link>
  <!-- Joint 3 (prox-med) -->
  <joint name="wiktor_left_gripper_fingerA_joint_3" type="revolute">
    <parent link="wiktor_left_gripper_fingerA_prox"/>
    <child link="wiktor_left_gripper_fingerA_med"/>
    <origin rpy="0 0 0" xyz="0 0 0.05715000"/>
    <axis xyz="0 -1 0"/>
    <limit effort="300" lower="-1" upper="1" velocity="10"/>
    <safety_controller k_position="100" k_velocity="2" soft_lower_limit="-2.93215314335" soft_upper_limit="2.93215314335"/>
    <dynamics damping="0.5"/>
  </joint>
  <link name="wiktor_left_gripper_fingerA_med">
    <inertial>
      <origin rpy="0 0 0" xyz="0 0 0"/>
      <mass value="1"/>
      <inertia ixx="0.01" ixy="0" ixz="0" iyy="0.01" iyz="0" izz="0.01"/>
    </inertial>
    <visual>
      <origin rpy="0 0 0" xyz="0 0 0"/>
      <geometry>
        <mesh filename="package://wiktor_description/meshes/robotiq_3finger/finger_link3_med_visual.stl"/>
      </geometry>
      <material name="DarkGray"/>
    </visual>
    <collision>
      <origin rpy="0 0 0" xyz="0 0 0"/>
      <geometry>
        <mesh filename="package://wiktor_description/meshes/robotiq_3finger/finger_link3_med_collision.stl"/>
      </geometry>
      <material name="DarkGray"/>
    </collision>
  </link>
  <!-- Joint 4 (med-dist) -->
  <joint name="wiktor_left_gripper_fingerA_joint_4" type="revolute">
    <parent link="wiktor_left_gripper_fingerA_med"/>
    <child link="wiktor_left_gripper_fingerA_dist"/>
    <origin rpy="0 0 0" xyz="0 0 0.03810000"/>
    <axis xyz="0 -1 0"/>
    <limit effort="300" lower="-1" upper="1" velocity="10"/>
    <safety_controller k_position="100" k_velocity="2" soft_lower_limit="-2.93215314335" soft_upper_limit="2.93215314335"/>
    <dynamics damping="0.5"/>
  </joint>
  <link name="wiktor_left_gripper_fingerA_dist">
    <inertial>
      <origin rpy="0 0 0" xyz="0 0 0"/>
      <mass value="1"/>
      <inertia ixx="0.01" ixy="0" ixz="0" iyy="0.01" iyz="0" izz="0.01"/>
    </inertial>
    <visual>
      <origin rpy="0 0 0" xyz="0 0 0"/>
      <geometry>
        <mesh filename="package://wiktor_description/meshes/robotiq_3finger/finger_link4_dist_visual.stl"/>
      </geometry>
      <material name="DarkGray"/>
    </visual>
    <collision>
      <origin rpy="0 0 0" xyz="0 0 0"/>
      <geometry>
        <mesh filename="package://wiktor_description/meshes/robotiq_3finger/finger_link4_dist_collision.stl"/>
      </geometry>
      <material name="DarkGray"/>
    </collision>
  </link>
  <!-- Finger B -->
  <joint name="wiktor_left_gripper_fingerB_knuckle" type="revolute">
    <origin rpy="0 0 3.14159265359" xyz="-0.02230120 0.03651250 0.06111875"/>
    <parent link="wiktor_left_gripper_palm"/>
    <child link="wiktor_left_gripper_fingerB_base"/>
    <axis xyz="-1 0 0"/>
    <limit effort="300" lower="-1" upper="1" velocity="10"/>
    <safety_controller k_position="100" k_velocity="2" soft_lower_limit="-2.93215314335" soft_upper_limit="2.93215314335"/>
    <dynamics damping="0.5"/>
  </joint>
  <link name="wiktor_left_gripper_fingerB_base">
    <inertial>
      <origin rpy="0 0 0" xyz="0 0 0"/>
      <mass value="1"/>
      <inertia ixx="0.01" ixy="0" ixz="0" iyy="0.01" iyz="0" izz="0.01"/>
    </inertial>
    <visual>
      <origin rpy="0 0 0" xyz="0 0 0"/>
      <geometry>
        <mesh filename="package://wiktor_description/meshes/robotiq_3finger/finger_link1_base_visual.stl"/>
      </geometry>
      <material name="DarkGray"/>
    </visual>
    <collision>
      <origin rpy="0 0 0" xyz="0 0 0"/>
      <geometry>
        <mesh filename="package://wiktor_description/meshes/robotiq_3finger/finger_link1_base_visual.stl"/>
      </geometry>
      <material name="DarkGray"/>
    </collision>
  </link>
  <!-- Joint 2 (base-prox) -->
  <joint name="wiktor_left_gripper_fingerB_joint_2" type="revolute">
    <parent link="wiktor_left_gripper_fingerB_base"/>
    <child link="wiktor_left_gripper_fingerB_prox"/>
    <origin rpy="0 0 0" xyz="0.02225000 0 0.02151380"/>
    <axis xyz="0 -1 0"/>
    <limit effort="300" lower="-1" upper="1" velocity="10"/>
    <safety_controller k_position="100" k_velocity="2" soft_lower_limit="-2.93215314335" soft_upper_limit="2.93215314335"/>
    <dynamics damping="0.5"/>
  </joint>
  <link name="wiktor_left_gripper_fingerB_prox">
    <inertial>
      <origin rpy="0 0 0" xyz="0 0 0"/>
      <mass value="1"/>
      <inertia ixx="0.01" ixy="0" ixz="0" iyy="0.01" iyz="0" izz="0.01"/>
    </inertial>
    <visual>
      <origin rpy="0 0 0" xyz="0 0 0"/>
      <geometry>
        <mesh filename="package://wiktor_description/meshes/robotiq_3finger/finger_link2_prox_visual.stl"/>
      </geometry>
      <material name="DarkGray"/>
    </visual>
    <collision>
      <origin rpy="0 0 0" xyz="0 0 0"/>
      <geometry>
        <mesh filename="package://wiktor_description/meshes/robotiq_3finger/finger_link2_prox_collision.stl"/>
      </geometry>
      <material name="DarkGray"/>
    </collision>
  </link>
  <!-- Joint 3 (prox-med) -->
  <joint name="wiktor_left_gripper_fingerB_joint_3" type="revolute">
    <parent link="wiktor_left_gripper_fingerB_prox"/>
    <child link="wiktor_left_gripper_fingerB_med"/>
    <origin rpy="0 0 0" xyz="0 0 0.05715000"/>
    <axis xyz="0 -1 0"/>
    <limit effort="300" lower="-1" upper="1" velocity="10"/>
    <safety_controller k_position="100" k_velocity="2" soft_lower_limit="-2.93215314335" soft_upper_limit="2.93215314335"/>
    <dynamics damping="0.5"/>
  </joint>
  <link name="wiktor_left_gripper_fingerB_med">
    <inertial>
      <origin rpy="0 0 0" xyz="0 0 0"/>
      <mass value="1"/>
      <inertia ixx="0.01" ixy="0" ixz="0" iyy="0.01" iyz="0" izz="0.01"/>
    </inertial>
    <visual>
      <origin rpy="0 0 0" xyz="0 0 0"/>
      <geometry>
        <mesh filename="package://wiktor_description/meshes/robotiq_3finger/finger_link3_med_visual.stl"/>
      </geometry>
      <material name="DarkGray"/>
    </visual>
    <collision>
      <origin rpy="0 0 0" xyz="0 0 0"/>
      <geometry>
        <mesh filename="package://wiktor_description/meshes/robotiq_3finger/finger_link3_med_collision.stl"/>
      </geometry>
      <material name="DarkGray"/>
    </collision>
  </link>
  <!-- Joint 4 (med-dist) -->
  <joint name="wiktor_left_gripper_fingerB_joint_4" type="revolute">
    <parent link="wiktor_left_gripper_fingerB_med"/>
    <child link="wiktor_left_gripper_fingerB_dist"/>
    <origin rpy="0 0 0" xyz="0 0 0.03810000"/>
    <axis xyz="0 -1 0"/>
    <limit effort="300" lower="-1" upper="1" velocity="10"/>
    <safety_controller k_position="100" k_velocity="2" soft_lower_limit="-2.93215314335" soft_upper_limit="2.93215314335"/>
    <dynamics damping="0.5"/>
  </joint>
  <link name="wiktor_left_gripper_fingerB_dist">
    <inertial>
      <origin rpy="0 0 0" xyz="0 0 0"/>
      <mass value="1"/>
      <inertia ixx="0.01" ixy="0" ixz="0" iyy="0.01" iyz="0" izz="0.01"/>
    </inertial>
    <visual>
      <origin rpy="0 0 0" xyz="0 0 0"/>
      <geometry>
        <mesh filename="package://wiktor_description/meshes/robotiq_3finger/finger_link4_dist_visual.stl"/>
      </geometry>
      <material name="DarkGray"/>
    </visual>
    <collision>
      <origin rpy="0 0 0" xyz="0 0 0"/>
      <geometry>
        <mesh filename="package://wiktor_description/meshes/robotiq_3finger/finger_link4_dist_collision.stl"/>
      </geometry>
      <material name="DarkGray"/>
    </collision>
  </link>
  <!-- Finger C -->
  <joint name="wiktor_left_gripper_fingerC_knuckle" type="revolute">
    <origin rpy="0 0 3.14159265359" xyz="-0.02230120 -0.03651250 0.06111875"/>
    <parent link="wiktor_left_gripper_palm"/>
    <child link="wiktor_left_gripper_fingerC_base"/>
    <axis xyz="1 0 0"/>
    <limit effort="300" lower="-1" upper="1" velocity="10"/>
    <safety_controller k_position="100" k_velocity="2" soft_lower_limit="-2.93215314335" soft_upper_limit="2.93215314335"/>
    <dynamics damping="0.5"/>
  </joint>
  <link name="wiktor_left_gripper_fingerC_base">
    <inertial>
      <origin rpy="0 0 0" xyz="0 0 0"/>
      <mass value="1"/>
      <inertia ixx="0.01" ixy="0" ixz="0" iyy="0.01" iyz="0" izz="0.01"/>
    </inertial>
    <visual>
      <origin rpy="0 0 0" xyz="0 0 0"/>
      <geometry>
        <mesh filename="package://wiktor_description/meshes/robotiq_3finger/finger_link1_base_visual.stl"/>
      </geometry>
      <material name="DarkGray"/>
    </visual>
    <collision>
      <origin rpy="0 0 0" xyz="0 0 0"/>
      <geometry>
        <mesh filename="package://wiktor_description/meshes/robotiq_3finger/finger_link1_base_visual.stl"/>
      </geometry>
      <material name="DarkGray"/>
    </collision>
  </link>
  <!-- Joint 2 (base-prox) -->
  <joint name="wiktor_left_gripper_fingerC_joint_2" type="revolute">
    <parent link="wiktor_left_gripper_fingerC_base"/>
    <child link="wiktor_left_gripper_fingerC_prox"/>
    <origin rpy="0 0 0" xyz="0.02225000 0 0.02151380"/>
    <axis xyz="0 -1 0"/>
    <limit effort="300" lower="-1" upper="1" velocity="10"/>
    <safety_controller k_position="100" k_velocity="2" soft_lower_limit="-2.93215314335" soft_upper_limit="2.93215314335"/>
    <dynamics damping="0.5"/>
  </joint>
  <link name="wiktor_left_gripper_fingerC_prox">
    <inertial>
      <origin rpy="0 0 0" xyz="0 0 0"/>
      <mass value="1"/>
      <inertia ixx="0.01" ixy="0" ixz="0" iyy="0.01" iyz="0" izz="0.01"/>
    </inertial>
    <visual>
      <origin rpy="0 0 0" xyz="0 0 0"/>
      <geometry>
        <mesh filename="package://wiktor_description/meshes/robotiq_3finger/finger_link2_prox_visual.stl"/>
      </geometry>
      <material name="DarkGray"/>
    </visual>
    <collision>
      <origin rpy="0 0 0" xyz="0 0 0"/>
      <geometry>
        <mesh filename="package://wiktor_description/meshes/robotiq_3finger/finger_link2_prox_collision.stl"/>
      </geometry>
      <material name="DarkGray"/>
    </collision>
  </link>
  <!-- Joint 3 (prox-med) -->
  <joint name="wiktor_left_gripper_fingerC_joint_3" type="revolute">
    <parent link="wiktor_left_gripper_fingerC_prox"/>
    <child link="wiktor_left_gripper_fingerC_med"/>
    <origin rpy="0 0 0" xyz="0 0 0.05715000"/>
    <axis xyz="0 -1 0"/>
    <limit effort="300" lower="-1" upper="1" velocity="10"/>
    <safety_controller k_position="100" k_velocity="2" soft_lower_limit="-2.93215314335" soft_upper_limit="2.93215314335"/>
    <dynamics damping="0.5"/>
  </joint>
  <link name="wiktor_left_gripper_fingerC_med">
    <inertial>
      <origin rpy="0 0 0" xyz="0 0 0"/>
      <mass value="1"/>
      <inertia ixx="0.01" ixy="0" ixz="0" iyy="0.01" iyz="0" izz="0.01"/>
    </inertial>
    <visual>
      <origin rpy="0 0 0" xyz="0 0 0"/>
      <geometry>
        <mesh filename="package://wiktor_description/meshes/robotiq_3finger/finger_link3_med_visual.stl"/>
      </geometry>
      <material name="DarkGray"/>
    </visual>
    <collision>
      <origin rpy="0 0 0" xyz="0 0 0"/>
      <geometry>
        <mesh filename="package://wiktor_description/meshes/robotiq_3finger/finger_link3_med_collision.stl"/>
      </geometry>
      <material name="DarkGray"/>
    </collision>
  </link>
  <!-- Joint 4 (med-dist) -->
  <joint name="wiktor_left_gripper_fingerC_joint_4" type="revolute">
    <parent link="wiktor_left_gripper_fingerC_med"/>
    <child link="wiktor_left_gripper_fingerC_dist"/>
    <origin rpy="0 0 0" xyz="0 0 0.03810000"/>
    <axis xyz="0 -1 0"/>
    <limit effort="300" lower="-1" upper="1" velocity="10"/>
    <safety_controller k_position="100" k_velocity="2" soft_lower_limit="-2.93215314335" soft_upper_limit="2.93215314335"/>
    <dynamics damping="0.5"/>
  </joint>
  <link name="wiktor_left_gripper_fingerC_dist">
    <inertial>
      <origin rpy="0 0 0" xyz="0 0 0"/>
      <mass value="1"/>
      <inertia ixx="0.01" ixy="0" ixz="0" iyy="0.01" iyz="0" izz="0.01"/>
    </inertial>
    <visual>
      <origin rpy="0 0 0" xyz="0 0 0"/>
      <geometry>
        <mesh filename="package://wiktor_description/meshes/robotiq_3finger/finger_link4_dist_visual.stl"/>
      </geometry>
      <material name="DarkGray"/>
    </visual>
    <collision>
      <origin rpy="0 0 0" xyz="0 0 0"/>
      <geometry>
        <mesh filename="package://wiktor_description/meshes/robotiq_3finger/finger_link4_dist_collision.stl"/>
      </geometry>
      <material name="DarkGray"/>
    </collision>
  </link>
  <joint name="wiktor_right_gripper_palm_joint" type="fixed">
    <origin rpy="0 0 0.785398163397" xyz="0 0 0.02705"/>
    <parent link="wiktor_right_gripper_mounting_bracket"/>
    <child link="wiktor_right_gripper_palm"/>
  </joint>
  <link name="wiktor_right_gripper_palm">
    <inertial>
      <origin rpy="0 0 0" xyz="0 0 0"/>
      <mass value="1"/>
      <inertia ixx="0.01" ixy="0" ixz="0" iyy="0.01" iyz="0" izz="0.01"/>
    </inertial>
    <visual>
      <origin rpy="0 0 0" xyz="0 0 0"/>
      <geometry>
        <mesh filename="package://wiktor_description/meshes/robotiq_3finger/palm_visual.stl"/>
      </geometry>
      <material name="DarkGray"/>
    </visual>
    <collision>
      <origin rpy="0 0 0" xyz="0 0 0"/>
      <geometry>
        <mesh filename="package://wiktor_description/meshes/robotiq_3finger/palm_collision.stl"/>
      </geometry>
      <material name="DarkGray"/>
    </collision>
  </link>
  <!-- Finger A -->
  <joint name="wiktor_right_gripper_fingerA_knuckle" type="fixed">
    <origin rpy="0 0 0" xyz="0.02225040 0 0.06111875"/>
    <parent link="wiktor_right_gripper_palm"/>
    <child link="wiktor_right_gripper_fingerA_base"/>
  </joint>
  <link name="wiktor_right_gripper_fingerA_base">
    <inertial>
      <origin rpy="0 0 0" xyz="0 0 0"/>
      <mass value="1"/>
      <inertia ixx="0.01" ixy="0" ixz="0" iyy="0.01" iyz="0" izz="0.01"/>
    </inertial>
    <visual>
      <origin rpy="0 0 0" xyz="0 0 0"/>
      <geometry>
        <mesh filename="package://wiktor_description/meshes/robotiq_3finger/finger_link1_base_visual.stl"/>
      </geometry>
      <material name="DarkGray"/>
    </visual>
    <collision>
      <origin rpy="0 0 0" xyz="0 0 0"/>
      <geometry>
        <mesh filename="package://wiktor_description/meshes/robotiq_3finger/finger_link1_base_visual.stl"/>
      </geometry>
      <material name="DarkGray"/>
    </collision>
  </link>
  <!-- Joint 2 (base-prox) -->
  <joint name="wiktor_right_gripper_fingerA_joint_2" type="revolute">
    <parent link="wiktor_right_gripper_fingerA_base"/>
    <child link="wiktor_right_gripper_fingerA_prox"/>
    <origin rpy="0 0 0" xyz="0.02225000 0 0.02151380"/>
    <axis xyz="0 -1 0"/>
    <limit effort="300" lower="-1" upper="1" velocity="10"/>
    <safety_controller k_position="100" k_velocity="2" soft_lower_limit="-2.93215314335" soft_upper_limit="2.93215314335"/>
    <dynamics damping="0.5"/>
  </joint>
  <link name="wiktor_right_gripper_fingerA_prox">
    <inertial>
      <origin rpy="0 0 0" xyz="0 0 0"/>
      <mass value="1"/>
      <inertia ixx="0.01" ixy="0" ixz="0" iyy="0.01" iyz="0" izz="0.01"/>
    </inertial>
    <visual>
      <origin rpy="0 0 0" xyz="0 0 0"/>
      <geometry>
        <mesh filename="package://wiktor_description/meshes/robotiq_3finger/finger_link2_prox_visual.stl"/>
      </geometry>
      <material name="DarkGray"/>
    </visual>
    <collision>
      <origin rpy="0 0 0" xyz="0 0 0"/>
      <geometry>
        <mesh filename="package://wiktor_description/meshes/robotiq_3finger/finger_link2_prox_collision.stl"/>
      </geometry>
      <material name="DarkGray"/>
    </collision>
  </link>
  <!-- Joint 3 (prox-med) -->
  <joint name="wiktor_right_gripper_fingerA_joint_3" type="revolute">
    <parent link="wiktor_right_gripper_fingerA_prox"/>
    <child link="wiktor_right_gripper_fingerA_med"/>
    <origin rpy="0 0 0" xyz="0 0 0.05715000"/>
    <axis xyz="0 -1 0"/>
    <limit effort="300" lower="-1" upper="1" velocity="10"/>
    <safety_controller k_position="100" k_velocity="2" soft_lower_limit="-2.93215314335" soft_upper_limit="2.93215314335"/>
    <dynamics damping="0.5"/>
  </joint>
  <link name="wiktor_right_gripper_fingerA_med">
    <inertial>
      <origin rpy="0 0 0" xyz="0 0 0"/>
      <mass value="1"/>
      <inertia ixx="0.01" ixy="0" ixz="0" iyy="0.01" iyz="0" izz="0.01"/>
    </inertial>
    <visual>
      <origin rpy="0 0 0" xyz="0 0 0"/>
      <geometry>
        <mesh filename="package://wiktor_description/meshes/robotiq_3finger/finger_link3_med_visual.stl"/>
      </geometry>
      <material name="DarkGray"/>
    </visual>
    <collision>
      <origin rpy="0 0 0" xyz="0 0 0"/>
      <geometry>
        <mesh filename="package://wiktor_description/meshes/robotiq_3finger/finger_link3_med_collision.stl"/>
      </geometry>
      <material name="DarkGray"/>
    </collision>
  </link>
  <!-- Joint 4 (med-dist) -->
  <joint name="wiktor_right_gripper_fingerA_joint_4" type="revolute">
    <parent link="wiktor_right_gripper_fingerA_med"/>
    <child link="wiktor_right_gripper_fingerA_dist"/>
    <origin rpy="0 0 0" xyz="0 0 0.03810000"/>
    <axis xyz="0 -1 0"/>
    <limit effort="300" lower="-1" upper="1" velocity="10"/>
    <safety_controller k_position="100" k_velocity="2" soft_lower_limit="-2.93215314335" soft_upper_limit="2.93215314335"/>
    <dynamics damping="0.5"/>
  </joint>
  <link name="wiktor_right_gripper_fingerA_dist">
    <inertial>
      <origin rpy="0 0 0" xyz="0 0 0"/>
      <mass value="1"/>
      <inertia ixx="0.01" ixy="0" ixz="0" iyy="0.01" iyz="0" izz="0.01"/>
    </inertial>
    <visual>
      <origin rpy="0 0 0" xyz="0 0 0"/>
      <geometry>
        <mesh filename="package://wiktor_description/meshes/robotiq_3finger/finger_link4_dist_visual.stl"/>
      </geometry>
      <material name="DarkGray"/>
    </visual>
    <collision>
      <origin rpy="0 0 0" xyz="0 0 0"/>
      <geometry>
        <mesh filename="package://wiktor_description/meshes/robotiq_3finger/finger_link4_dist_collision.stl"/>
      </geometry>
      <material name="DarkGray"/>
    </collision>
  </link>
  <!-- Finger B -->
  <joint name="wiktor_right_gripper_fingerB_knuckle" type="revolute">
    <origin rpy="0 0 3.14159265359" xyz="-0.02230120 0.03651250 0.06111875"/>
    <parent link="wiktor_right_gripper_palm"/>
    <child link="wiktor_right_gripper_fingerB_base"/>
    <axis xyz="-1 0 0"/>
    <limit effort="300" lower="-1" upper="1" velocity="10"/>
    <safety_controller k_position="100" k_velocity="2" soft_lower_limit="-2.93215314335" soft_upper_limit="2.93215314335"/>
    <dynamics damping="0.5"/>
  </joint>
  <link name="wiktor_right_gripper_fingerB_base">
    <inertial>
      <origin rpy="0 0 0" xyz="0 0 0"/>
      <mass value="1"/>
      <inertia ixx="0.01" ixy="0" ixz="0" iyy="0.01" iyz="0" izz="0.01"/>
    </inertial>
    <visual>
      <origin rpy="0 0 0" xyz="0 0 0"/>
      <geometry>
        <mesh filename="package://wiktor_description/meshes/robotiq_3finger/finger_link1_base_visual.stl"/>
      </geometry>
      <material name="DarkGray"/>
    </visual>
    <collision>
      <origin rpy="0 0 0" xyz="0 0 0"/>
      <geometry>
        <mesh filename="package://wiktor_description/meshes/robotiq_3finger/finger_link1_base_visual.stl"/>
      </geometry>
      <material name="DarkGray"/>
    </collision>
  </link>
  <!-- Joint 2 (base-prox) -->
  <joint name="wiktor_right_gripper_fingerB_joint_2" type="revolute">
    <parent link="wiktor_right_gripper_fingerB_base"/>
    <child link="wiktor_right_gripper_fingerB_prox"/>
    <origin rpy="0 0 0" xyz="0.02225000 0 0.02151380"/>
    <axis xyz="0 -1 0"/>
    <limit effort="300" lower="-1" upper="1" velocity="10"/>
    <safety_controller k_position="100" k_velocity="2" soft_lower_limit="-2.93215314335" soft_upper_limit="2.93215314335"/>
    <dynamics damping="0.5"/>
  </joint>
  <link name="wiktor_right_gripper_fingerB_prox">
    <inertial>
      <origin rpy="0 0 0" xyz="0 0 0"/>
      <mass value="1"/>
      <inertia ixx="0.01" ixy="0" ixz="0" iyy="0.01" iyz="0" izz="0.01"/>
    </inertial>
    <visual>
      <origin rpy="0 0 0" xyz="0 0 0"/>
      <geometry>
        <mesh filename="package://wiktor_description/meshes/robotiq_3finger/finger_link2_prox_visual.stl"/>
      </geometry>
      <material name="DarkGray"/>
    </visual>
    <collision>
      <origin rpy="0 0 0" xyz="0 0 0"/>
      <geometry>
        <mesh filename="package://wiktor_description/meshes/robotiq_3finger/finger_link2_prox_collision.stl"/>
      </geometry>
      <material name="DarkGray"/>
    </collision>
  </link>
  <!-- Joint 3 (prox-med) -->
  <joint name="wiktor_right_gripper_fingerB_joint_3" type="revolute">
    <parent link="wiktor_right_gripper_fingerB_prox"/>
    <child link="wiktor_right_gripper_fingerB_med"/>
    <origin rpy="0 0 0" xyz="0 0 0.05715000"/>
    <axis xyz="0 -1 0"/>
    <limit effort="300" lower="-1" upper="1" velocity="10"/>
    <safety_controller k_position="100" k_velocity="2" soft_lower_limit="-2.93215314335" soft_upper_limit="2.93215314335"/>
    <dynamics damping="0.5"/>
  </joint>
  <link name="wiktor_right_gripper_fingerB_med">
    <inertial>
      <origin rpy="0 0 0" xyz="0 0 0"/>
      <mass value="1"/>
      <inertia ixx="0.01" ixy="0" ixz="0" iyy="0.01" iyz="0" izz="0.01"/>
    </inertial>
    <visual>
      <origin rpy="0 0 0" xyz="0 0 0"/>
      <geometry>
        <mesh filename="package://wiktor_description/meshes/robotiq_3finger/finger_link3_med_visual.stl"/>
      </geometry>
      <material name="DarkGray"/>
    </visual>
    <collision>
      <origin rpy="0 0 0" xyz="0 0 0"/>
      <geometry>
        <mesh filename="package://wiktor_description/meshes/robotiq_3finger/finger_link3_med_collision.stl"/>
      </geometry>
      <material name="DarkGray"/>
    </collision>
  </link>
  <!-- Joint 4 (med-dist) -->
  <joint name="wiktor_right_gripper_fingerB_joint_4" type="revolute">
    <parent link="wiktor_right_gripper_fingerB_med"/>
    <child link="wiktor_right_gripper_fingerB_dist"/>
    <origin rpy="0 0 0" xyz="0 0 0.03810000"/>
    <axis xyz="0 -1 0"/>
    <limit effort="300" lower="-1" upper="1" velocity="10"/>
    <safety_controller k_position="100" k_velocity="2" soft_lower_limit="-2.93215314335" soft_upper_limit="2.93215314335"/>
    <dynamics damping="0.5"/>
  </joint>
  <link name="wiktor_right_gripper_fingerB_dist">
    <inertial>
      <origin rpy="0 0 0" xyz="0 0 0"/>
      <mass value="1"/>
      <inertia ixx="0.01" ixy="0" ixz="0" iyy="0.01" iyz="0" izz="0.01"/>
    </inertial>
    <visual>
      <origin rpy="0 0 0" xyz="0 0 0"/>
      <geometry>
        <mesh filename="package://wiktor_description/meshes/robotiq_3finger/finger_link4_dist_visual.stl"/>
      </geometry>
      <material name="DarkGray"/>
    </visual>
    <collision>
      <origin rpy="0 0 0" xyz="0 0 0"/>
      <geometry>
        <mesh filename="package://wiktor_description/meshes/robotiq_3finger/finger_link4_dist_collision.stl"/>
      </geometry>
      <material name="DarkGray"/>
    </collision>
  </link>
  <!-- Finger C -->
  <joint name="wiktor_right_gripper_fingerC_knuckle" type="revolute">
    <origin rpy="0 0 3.14159265359" xyz="-0.02230120 -0.03651250 0.06111875"/>
    <parent link="wiktor_right_gripper_palm"/>
    <child link="wiktor_right_gripper_fingerC_base"/>
    <axis xyz="1 0 0"/>
    <limit effort="300" lower="-1" upper="1" velocity="10"/>
    <safety_controller k_position="100" k_velocity="2" soft_lower_limit="-2.93215314335" soft_upper_limit="2.93215314335"/>
    <dynamics damping="0.5"/>
  </joint>
  <link name="wiktor_right_gripper_fingerC_base">
    <inertial>
      <origin rpy="0 0 0" xyz="0 0 0"/>
      <mass value="1"/>
      <inertia ixx="0.01" ixy="0" ixz="0" iyy="0.01" iyz="0" izz="0.01"/>
    </inertial>
    <visual>
      <origin rpy="0 0 0" xyz="0 0 0"/>
      <geometry>
        <mesh filename="package://wiktor_description/meshes/robotiq_3finger/finger_link1_base_visual.stl"/>
      </geometry>
      <material name="DarkGray"/>
    </visual>
    <collision>
      <origin rpy="0 0 0" xyz="0 0 0"/>
      <geometry>
        <mesh filename="package://wiktor_description/meshes/robotiq_3finger/finger_link1_base_visual.stl"/>
      </geometry>
      <material name="DarkGray"/>
    </collision>
  </link>
  <!-- Joint 2 (base-prox) -->
  <joint name="wiktor_right_gripper_fingerC_joint_2" type="revolute">
    <parent link="wiktor_right_gripper_fingerC_base"/>
    <child link="wiktor_right_gripper_fingerC_prox"/>
    <origin rpy="0 0 0" xyz="0.02225000 0 0.02151380"/>
    <axis xyz="0 -1 0"/>
    <limit effort="300" lower="-1" upper="1" velocity="10"/>
    <safety_controller k_position="100" k_velocity="2" soft_lower_limit="-2.93215314335" soft_upper_limit="2.93215314335"/>
    <dynamics damping="0.5"/>
  </joint>
  <link name="wiktor_right_gripper_fingerC_prox">
    <inertial>
      <origin rpy="0 0 0" xyz="0 0 0"/>
      <mass value="1"/>
      <inertia ixx="0.01" ixy="0" ixz="0" iyy="0.01" iyz="0" izz="0.01"/>
    </inertial>
    <visual>
      <origin rpy="0 0 0" xyz="0 0 0"/>
      <geometry>
        <mesh filename="package://wiktor_description/meshes/robotiq_3finger/finger_link2_prox_visual.stl"/>
      </geometry>
      <material name="DarkGray"/>
    </visual>
    <collision>
      <origin rpy="0 0 0" xyz="0 0 0"/>
      <geometry>
        <mesh filename="package://wiktor_description/meshes/robotiq_3finger/finger_link2_prox_collision.stl"/>
      </geometry>
      <material name="DarkGray"/>
    </collision>
  </link>
  <!-- Joint 3 (prox-med) -->
  <joint name="wiktor_right_gripper_fingerC_joint_3" type="revolute">
    <parent link="wiktor_right_gripper_fingerC_prox"/>
    <child link="wiktor_right_gripper_fingerC_med"/>
    <origin rpy="0 0 0" xyz="0 0 0.05715000"/>
    <axis xyz="0 -1 0"/>
    <limit effort="300" lower="-1" upper="1" velocity="10"/>
    <safety_controller k_position="100" k_velocity="2" soft_lower_limit="-2.93215314335" soft_upper_limit="2.93215314335"/>
    <dynamics damping="0.5"/>
  </joint>
  <link name="wiktor_right_gripper_fingerC_med">
    <inertial>
      <origin rpy="0 0 0" xyz="0 0 0"/>
      <mass value="1"/>
      <inertia ixx="0.01" ixy="0" ixz="0" iyy="0.01" iyz="0" izz="0.01"/>
    </inertial>
    <visual>
      <origin rpy="0 0 0" xyz="0 0 0"/>
      <geometry>
        <mesh filename="package://wiktor_description/meshes/robotiq_3finger/finger_link3_med_visual.stl"/>
      </geometry>
      <material name="DarkGray"/>
    </visual>
    <collision>
      <origin rpy="0 0 0" xyz="0 0 0"/>
      <geometry>
        <mesh filename="package://wiktor_description/meshes/robotiq_3finger/finger_link3_med_collision.stl"/>
      </geometry>
      <material name="DarkGray"/>
    </collision>
  </link>
  <!-- Joint 4 (med-dist) -->
  <joint name="wiktor_right_gripper_fingerC_joint_4" type="revolute">
    <parent link="wiktor_right_gripper_fingerC_med"/>
    <child link="wiktor_right_gripper_fingerC_dist"/>
    <origin rpy="0 0 0" xyz="0 0 0.03810000"/>
    <axis xyz="0 -1 0"/>
    <limit effort="300" lower="-1" upper="1" velocity="10"/>
    <safety_controller k_position="100" k_velocity="2" soft_lower_limit="-2.93215314335" soft_upper_limit="2.93215314335"/>
    <dynamics damping="0.5"/>
  </joint>
  <link name="wiktor_right_gripper_fingerC_dist">
    <inertial>
      <origin rpy="0 0 0" xyz="0 0 0"/>
      <mass value="1"/>
      <inertia ixx="0.01" ixy="0" ixz="0" iyy="0.01" iyz="0" izz="0.01"/>
    </inertial>
    <visual>
      <origin rpy="0 0 0" xyz="0 0 0"/>
      <geometry>
        <mesh filename="package://wiktor_description/meshes/robotiq_3finger/finger_link4_dist_visual.stl"/>
      </geometry>
      <material name="DarkGray"/>
    </visual>
    <collision>
      <origin rpy="0 0 0" xyz="0 0 0"/>
      <geometry>
        <mesh filename="package://wiktor_description/meshes/robotiq_3finger/finger_link4_dist_collision.stl"/>
      </geometry>
      <material name="DarkGray"/>
    </collision>
  </link>
</robot>
